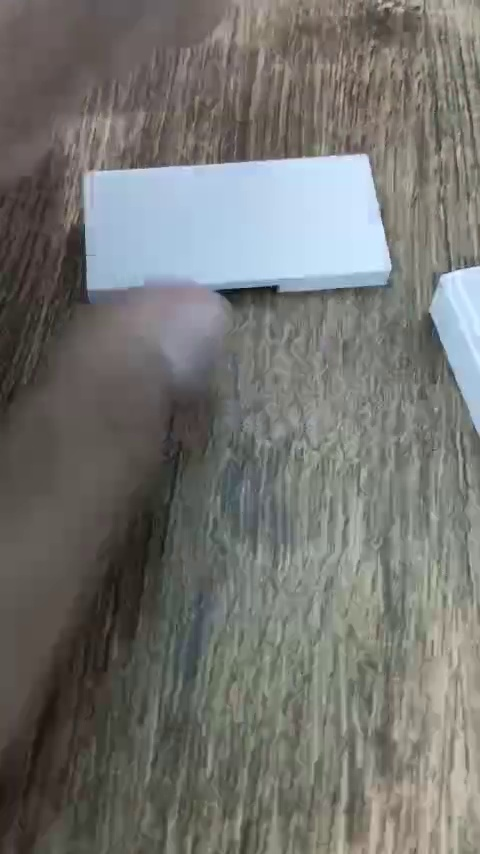lid: (83, 154, 393, 297)
